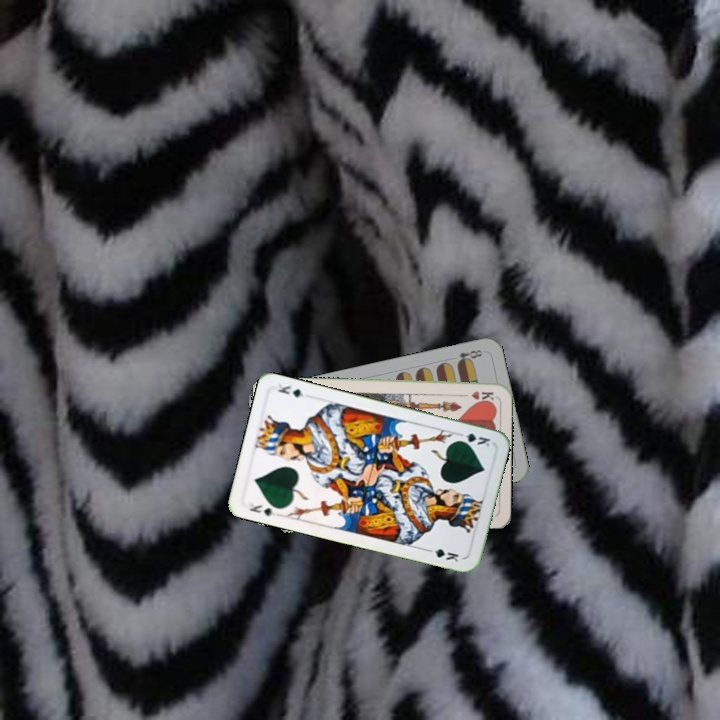E8: (453, 345, 487, 367)
GK: (453, 429, 493, 449), (245, 499, 278, 519)
HK: (456, 387, 496, 403)
